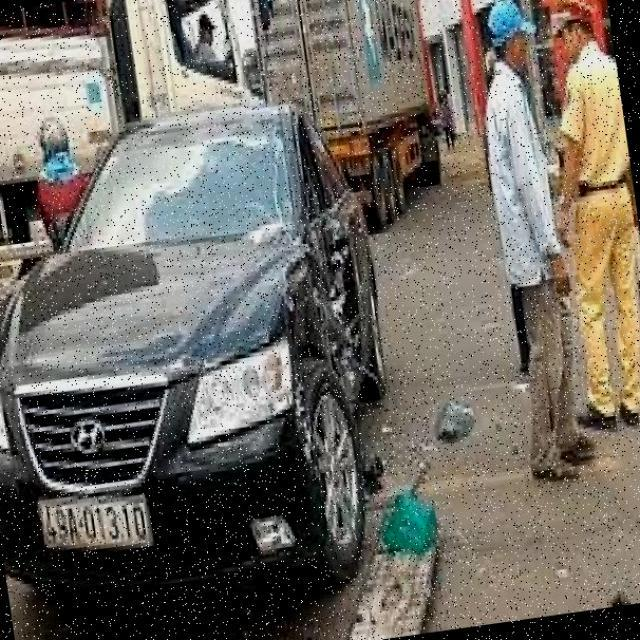accident: (188, 67, 448, 602)
